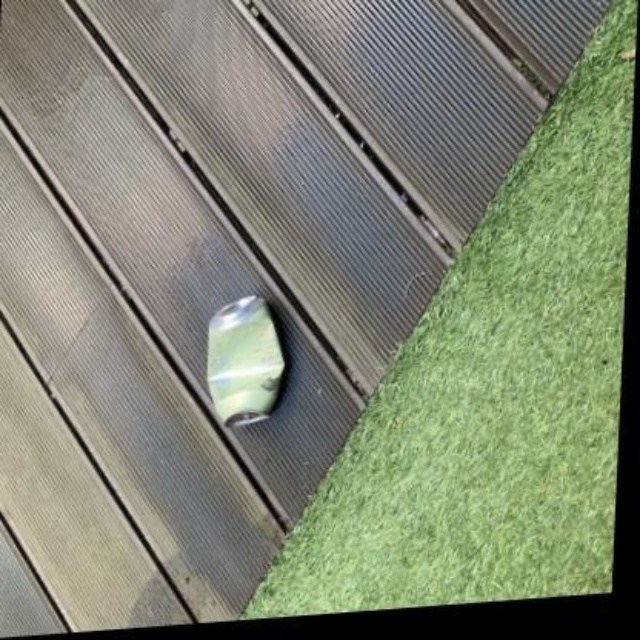trash: (208, 295, 283, 426)
